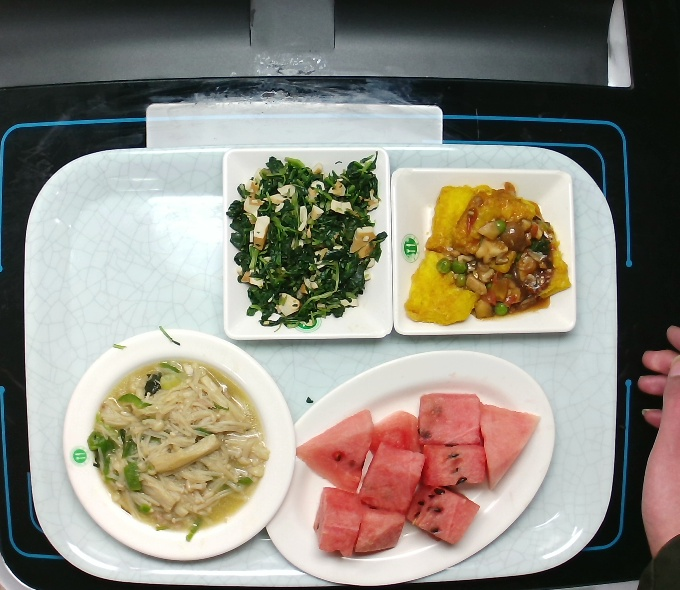wcq-CuiPiDouFu: (404, 181, 571, 325)
wcq-JinZhenGu: (91, 354, 271, 533)
wcq-MaLanTouChaoDouGan: (224, 152, 385, 329)
wcq-XiGua: (296, 392, 541, 558)
